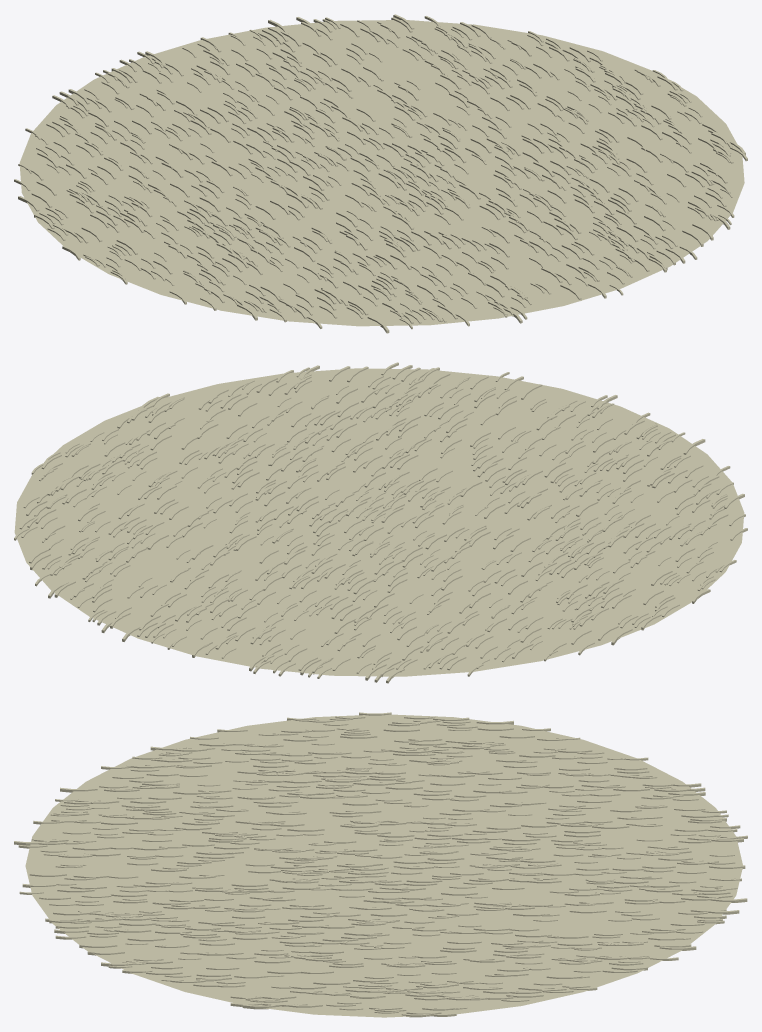
File: Cheese.fbx
The picture shows the model from 3 angles, top to bottom: view 1: azimuth 30°, elevation 25°; view 2: azimuth 150°, elevation 25°; view 3: azimuth 270°, elevation 25°; orthographic projection.
Parts seen in each view (by area): view 1: Circle.003; view 2: Circle.003; view 3: Circle.003.
Boxes of the visible parts, x1,y1,x2,y2 form: Circle.003: (19, 20, 744, 326); Circle.003: (14, 368, 744, 676); Circle.003: (25, 714, 742, 1017).
Size of the model in its own units: 6.23 by 0.0257 by 6.36.
